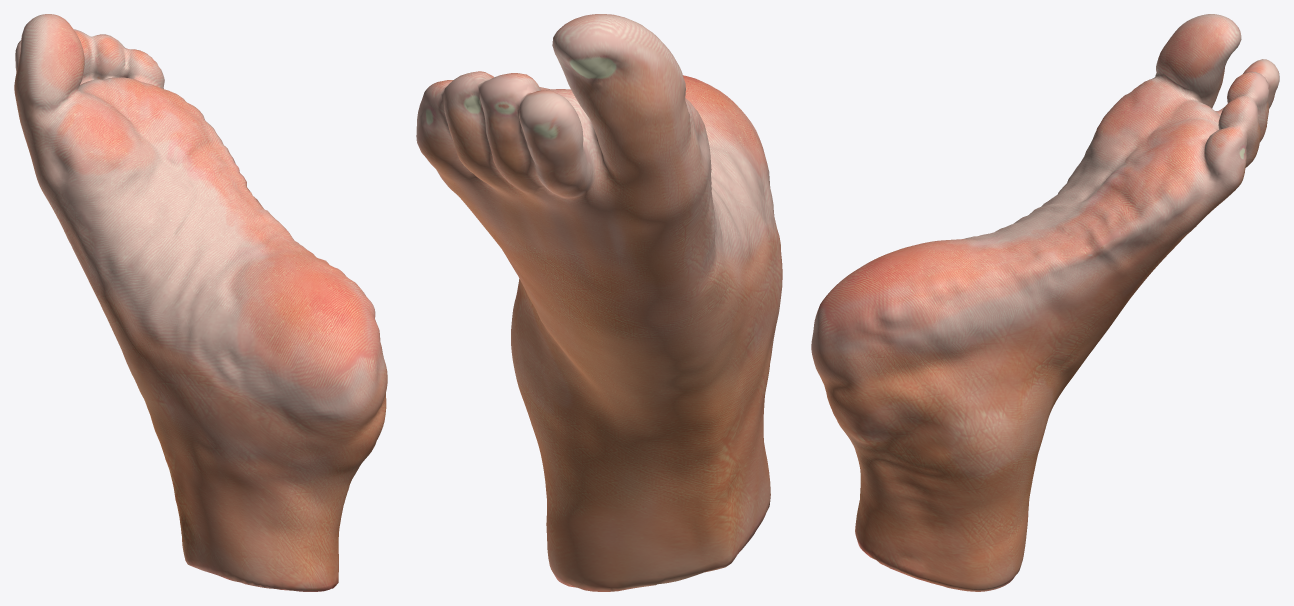
The model's file is pie.glb.
3 views of the same model, side by side, from view 1: azimuth 30°, elevation 25°; view 2: azimuth 150°, elevation 25°; view 3: azimuth 270°, elevation 25° (orthographic). The views are drawn at different scales.
Visible parts, largest first — view 1: ct scanned foot2_2; view 2: ct scanned foot2_2; view 3: ct scanned foot2_2.
Part boxes in pixels (x1,y1,x2,y2): ct scanned foot2_2: (14, 14, 387, 591); ct scanned foot2_2: (416, 14, 782, 591); ct scanned foot2_2: (811, 14, 1279, 591).
Size of the model in its own units: 0.8221 by 1.84 by 1.55.
Materials: 1 (1 with a texture image).
